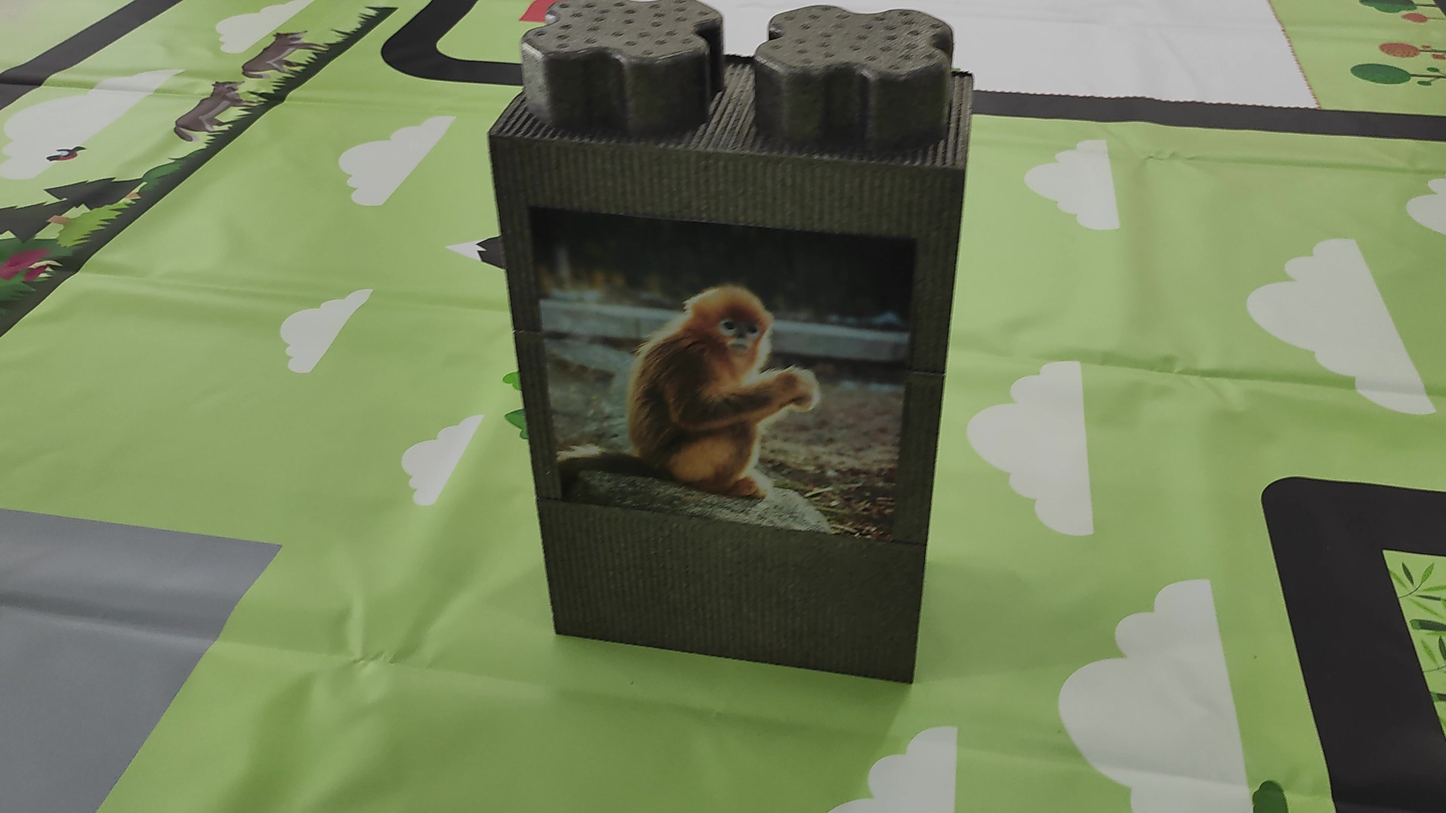monkey: (548, 235, 863, 524)
